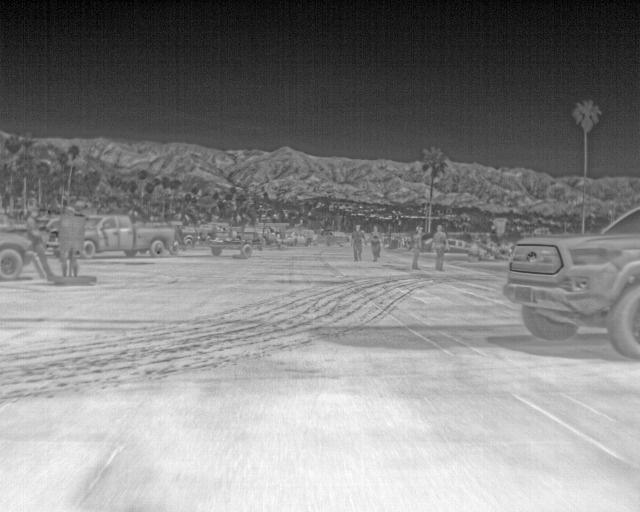bicycle: (504, 206, 639, 358), (83, 212, 175, 258), (0, 229, 36, 281)
empty: (57, 204, 85, 274), (428, 222, 447, 272), (409, 226, 425, 270), (351, 220, 366, 263), (367, 222, 383, 261)
